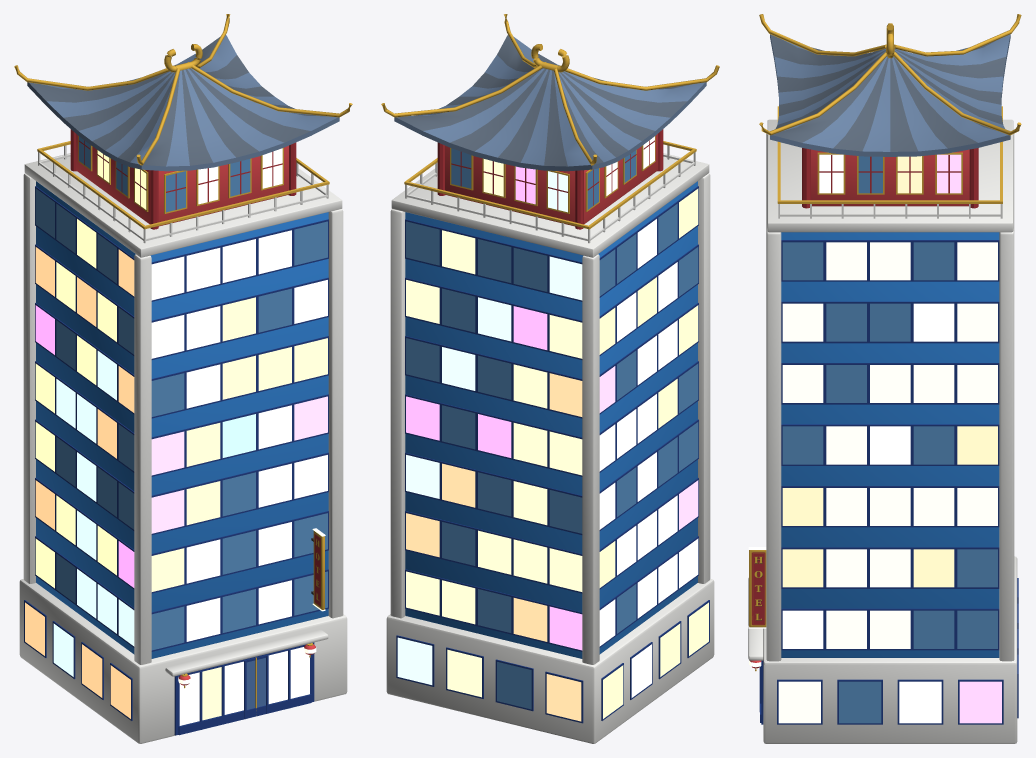
Rendered from predio_vidro_coroa_cinza.glb.
The picture shows the model from 3 angles, left to right: view 1: azimuth 30°, elevation 25°; view 2: azimuth 150°, elevation 25°; view 3: azimuth 270°, elevation 25°; orthographic projection. The views are drawn at different scales.
Visible parts, largest first — view 1: predio_vidro_coroa_cinza; view 2: predio_vidro_coroa_cinza; view 3: predio_vidro_coroa_cinza.
Boxes of the visible parts, <box> form: predio_vidro_coroa_cinza: <box>14,14,352,743</box>; predio_vidro_coroa_cinza: <box>381,14,719,743</box>; predio_vidro_coroa_cinza: <box>748,14,1021,743</box>.
Bounding box in the file's own units: 12.36 × 34.49 × 12.89.
10 materials, 2 textured.
